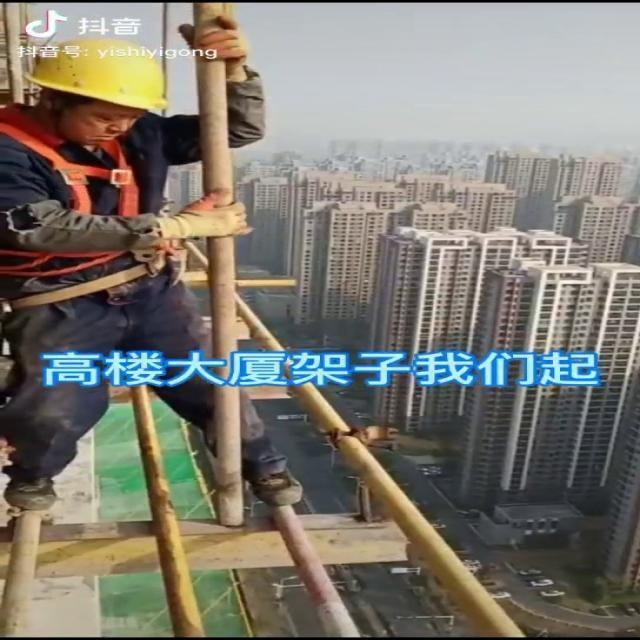Arnes_seguridad: (0, 129, 186, 281)
